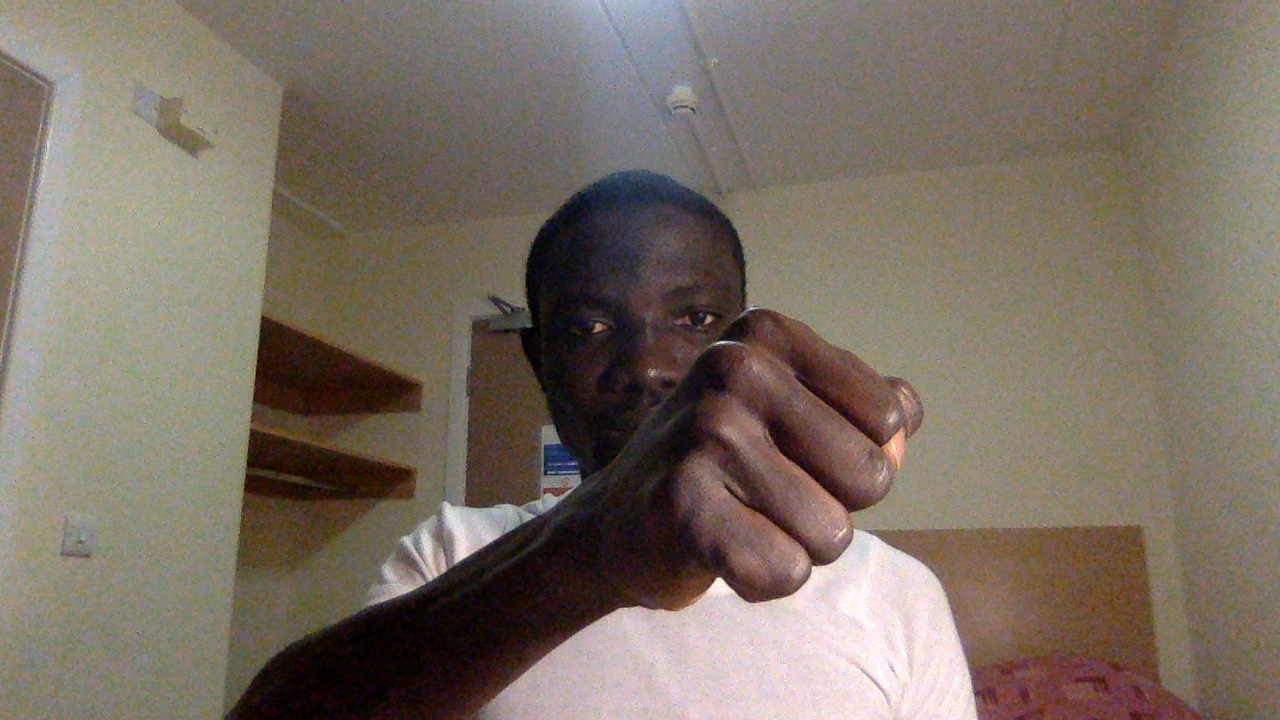Yes: (562, 293, 936, 605)
